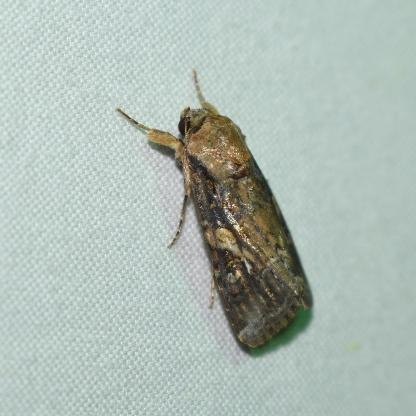Fall Armyworm Moth: (113, 66, 317, 352)
